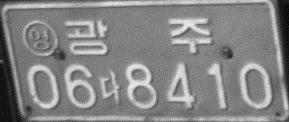0: (238, 62, 272, 109), (26, 63, 60, 109)
1: (201, 61, 232, 110)
4: (165, 63, 197, 109)
6: (63, 62, 96, 110)
8: (125, 62, 158, 110)
광주_D: (63, 18, 211, 56)
다: (99, 68, 122, 105)
영: (21, 19, 58, 58)
